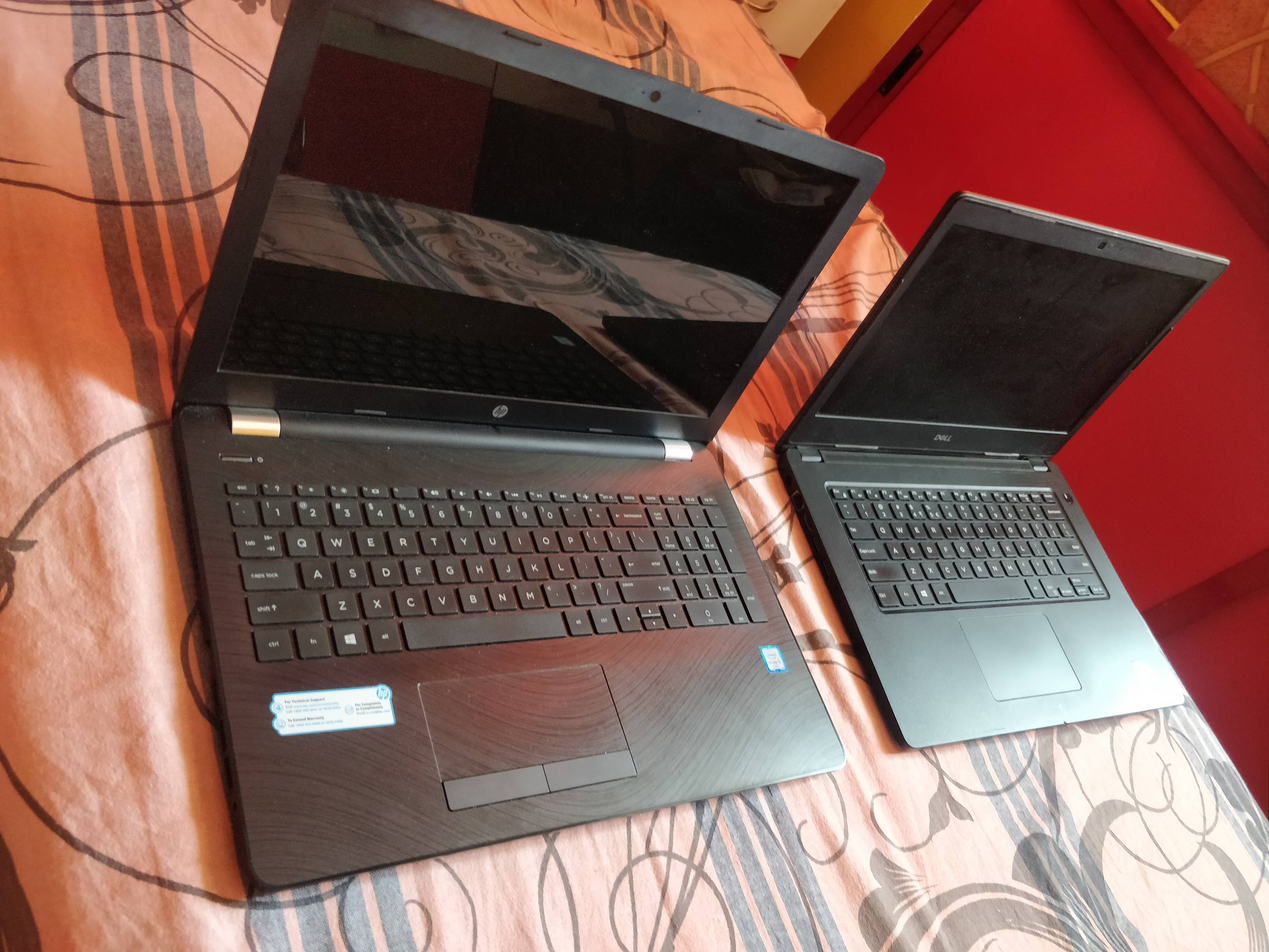Electronics: (145, 0, 908, 903), (758, 175, 1238, 761)
